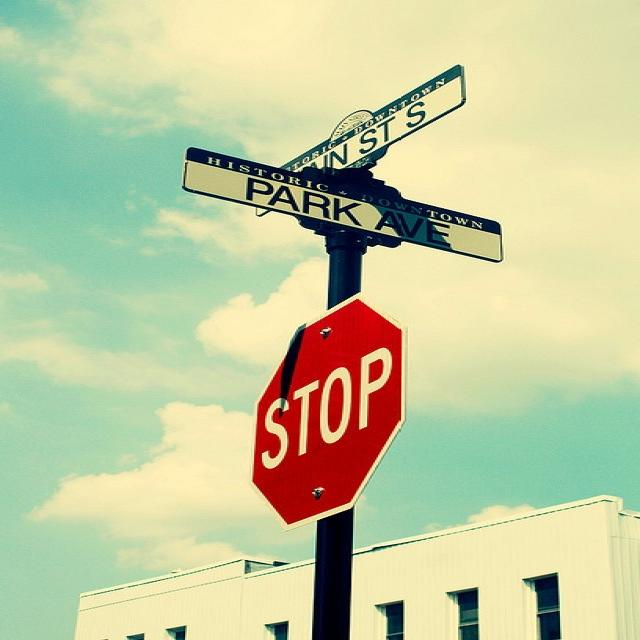pole: (303, 224, 381, 639)
